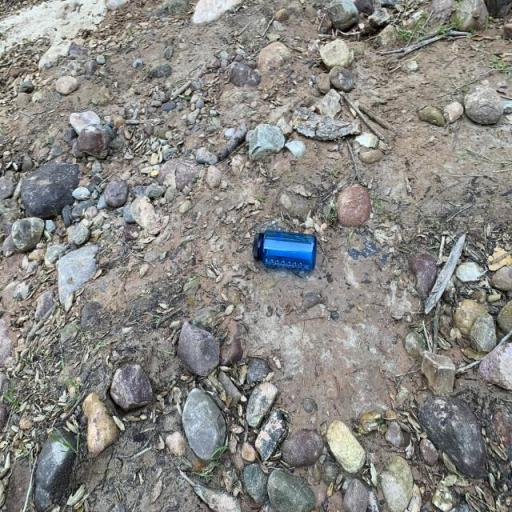bottle: (252, 229, 318, 272)
